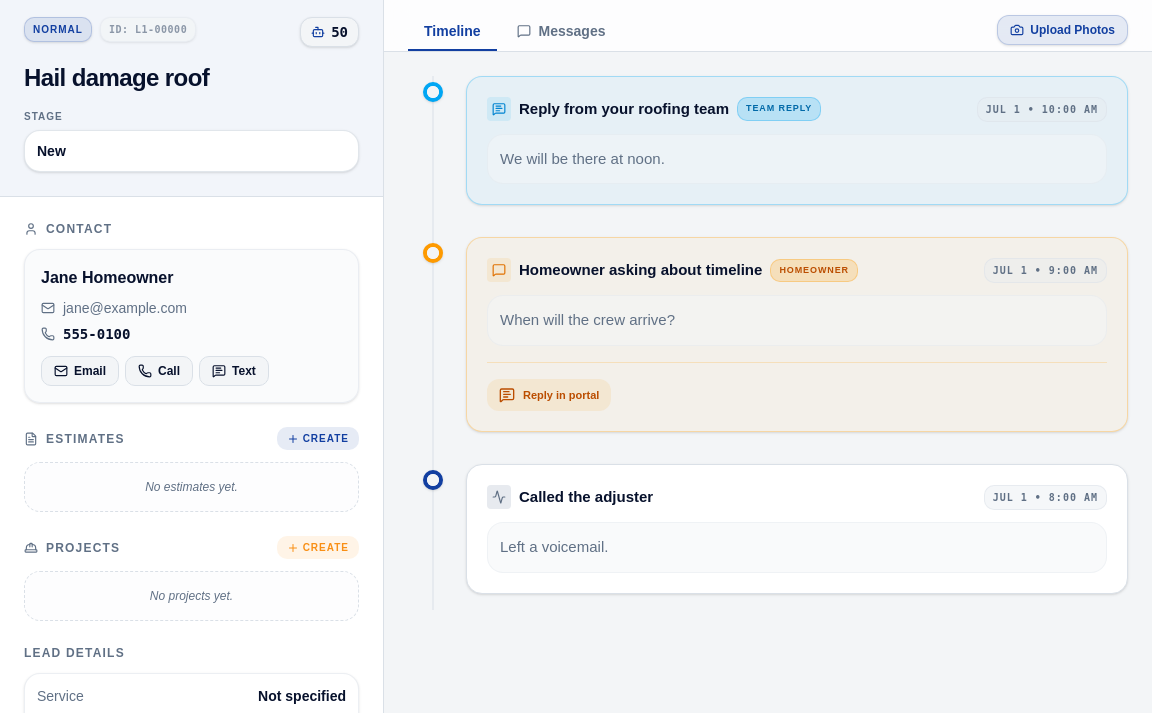
Test: lead detail – Messages tab › shows the reply composer for crm.write roles
The image size is (1152, 713).
Click the button "Messages" at (561, 32), box top-left (500, 13), bottom-right (621, 51)
(page scrolled)
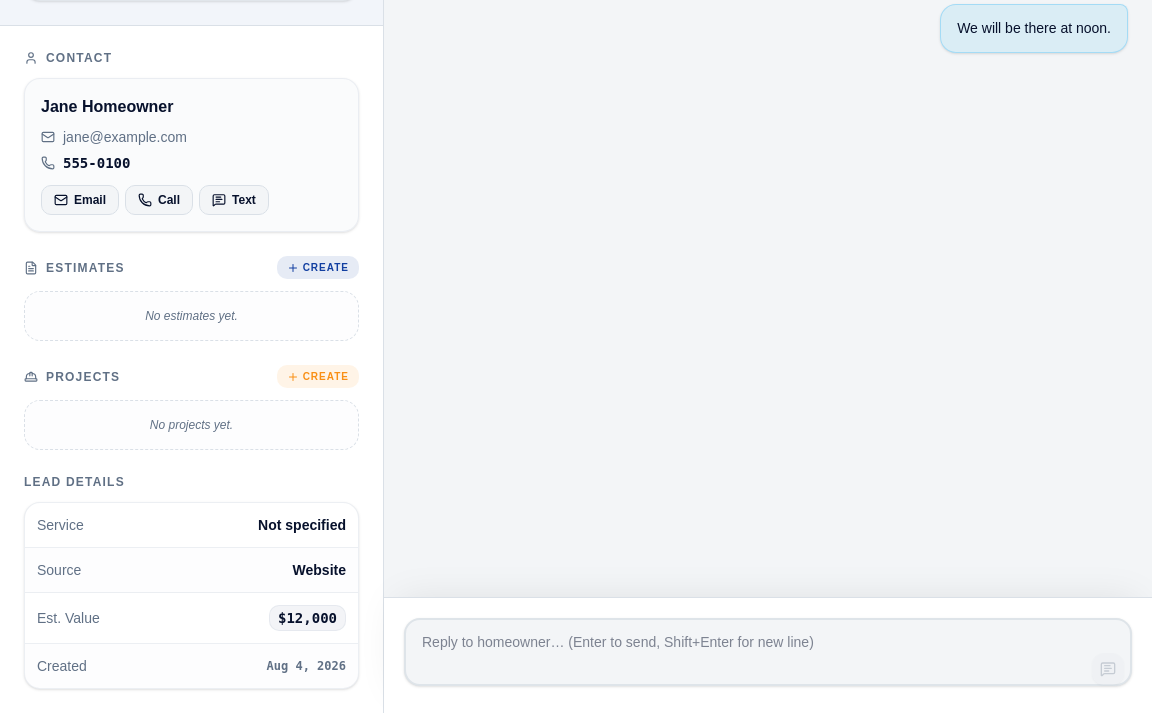
Check: the text box with test id "input-message-thread-reply" is shown, box top-left (404, 618), bottom-right (1132, 686)
